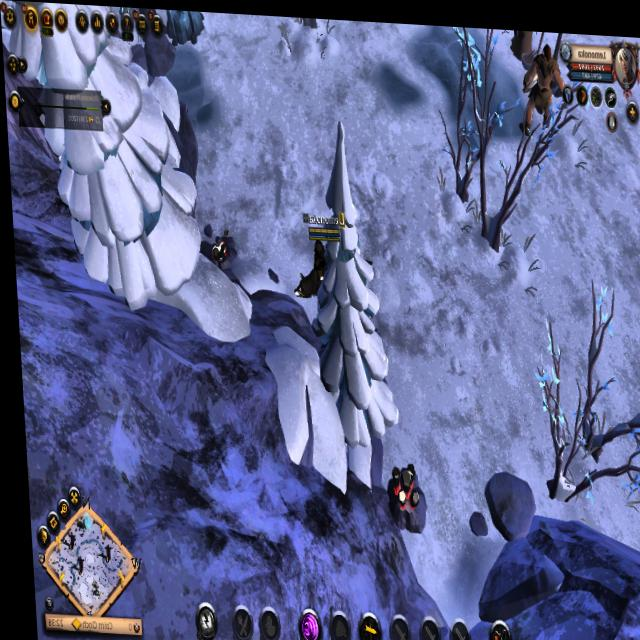ore tier 5: (377, 455, 421, 528)
